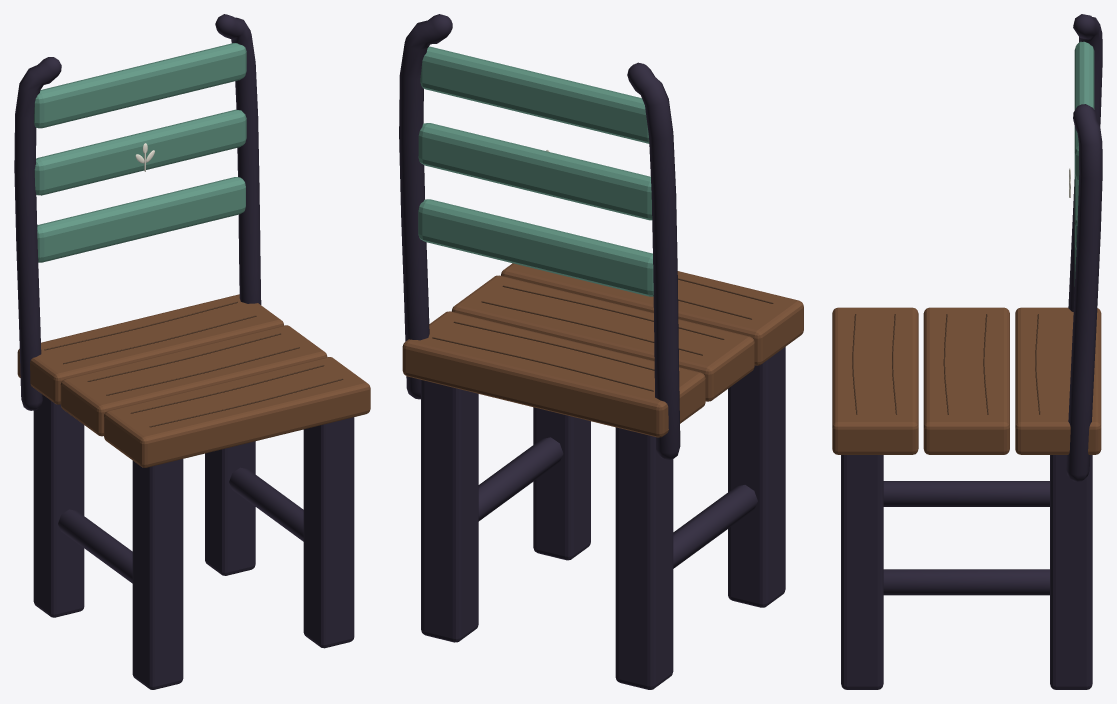
The model's file is chair_mint.glb.
3 renders of one model, left to right at view 1: azimuth 30°, elevation 25°; view 2: azimuth 150°, elevation 25°; view 3: azimuth 270°, elevation 25°, orthographic. The views are drawn at different scales.
Parts seen in each view (by area): view 1: Bevelled_timber.002, Leg.001, Leg.003, Bevelled_timber.001, Bevelled_timber, Leg, Rounded_back_slat.002, Rounded_back_slat, Rounded_back_slat.001, Back_upright, Leg.002, Back_upright.001 (+2 smaller); view 2: Bevelled_timber, Leg.002, Leg, Leg.001, Bevelled_timber.001, Rounded_back_slat, Rounded_back_slat.001, Rounded_back_slat.002, Back_upright, Bevelled_timber.002, Back_upright.001, Leg.003 (+2 smaller); view 3: Bevelled_timber.002, Bevelled_timber.001, Leg.003, Leg.002, Bevelled_timber, Back_upright.001, Side_brace.001, Side_brace, Back_upright, Rounded_back_slat.002.
Part boxes in pixels (x1=…): Bevelled_timber.002: x1=104, y1=357, x2=370, y2=467; Leg.001: x1=132, y1=459, x2=183, y2=689; Leg.003: x1=303, y1=417, x2=354, y2=648; Bevelled_timber.001: x1=60, y1=325, x2=327, y2=436; Bevelled_timber: x1=17, y1=294, x2=283, y2=404; Leg: x1=33, y1=394, x2=84, y2=617; Rounded_back_slat.002: x1=34, y1=43, x2=246, y2=128; Rounded_back_slat: x1=37, y1=177, x2=245, y2=262; Rounded_back_slat.001: x1=34, y1=109, x2=246, y2=195; Back_upright: x1=14, y1=57, x2=61, y2=410; Leg.002: x1=205, y1=441, x2=255, y2=575; Back_upright.001: x1=215, y1=14, x2=261, y2=304; Bevelled_timber: x1=402, y1=311, x2=705, y2=437; Leg.002: x1=421, y1=380, x2=478, y2=642; Leg: x1=615, y1=427, x2=673, y2=689; Leg.001: x1=728, y1=347, x2=785, y2=607; Bevelled_timber.001: x1=451, y1=275, x2=754, y2=401; Rounded_back_slat: x1=418, y1=199, x2=653, y2=296; Rounded_back_slat.001: x1=418, y1=123, x2=652, y2=220; Rounded_back_slat.002: x1=420, y1=46, x2=649, y2=143; Back_upright: x1=627, y1=62, x2=680, y2=459; Bevelled_timber.002: x1=501, y1=263, x2=803, y2=365; Back_upright.001: x1=399, y1=14, x2=452, y2=399; Leg.003: x1=533, y1=407, x2=590, y2=560; Bevelled_timber.002: x1=832, y1=307, x2=918, y2=454; Bevelled_timber.001: x1=923, y1=307, x2=1009, y2=454; Leg.003: x1=841, y1=455, x2=883, y2=689; Leg.002: x1=1050, y1=455, x2=1092, y2=689; Bevelled_timber: x1=1015, y1=307, x2=1101, y2=454; Back_upright.001: x1=1066, y1=104, x2=1102, y2=481; Side_brace.001: x1=883, y1=569, x2=1049, y2=595; Side_brace: x1=883, y1=481, x2=1049, y2=506; Back_upright: x1=1068, y1=14, x2=1102, y2=311; Rounded_back_slat.002: x1=1074, y1=41, x2=1094, y2=180.
Size of the model in its own units: 0.4518 by 0.977 by 0.414.
